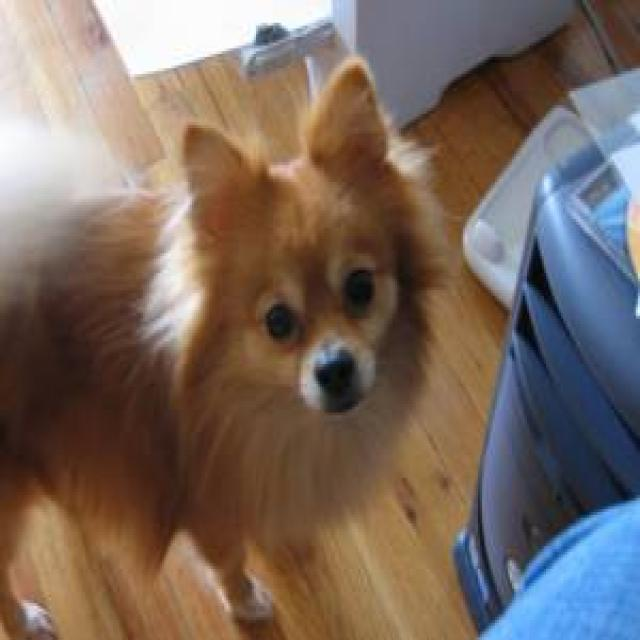dog-pomeranian: (2, 46, 429, 634)
